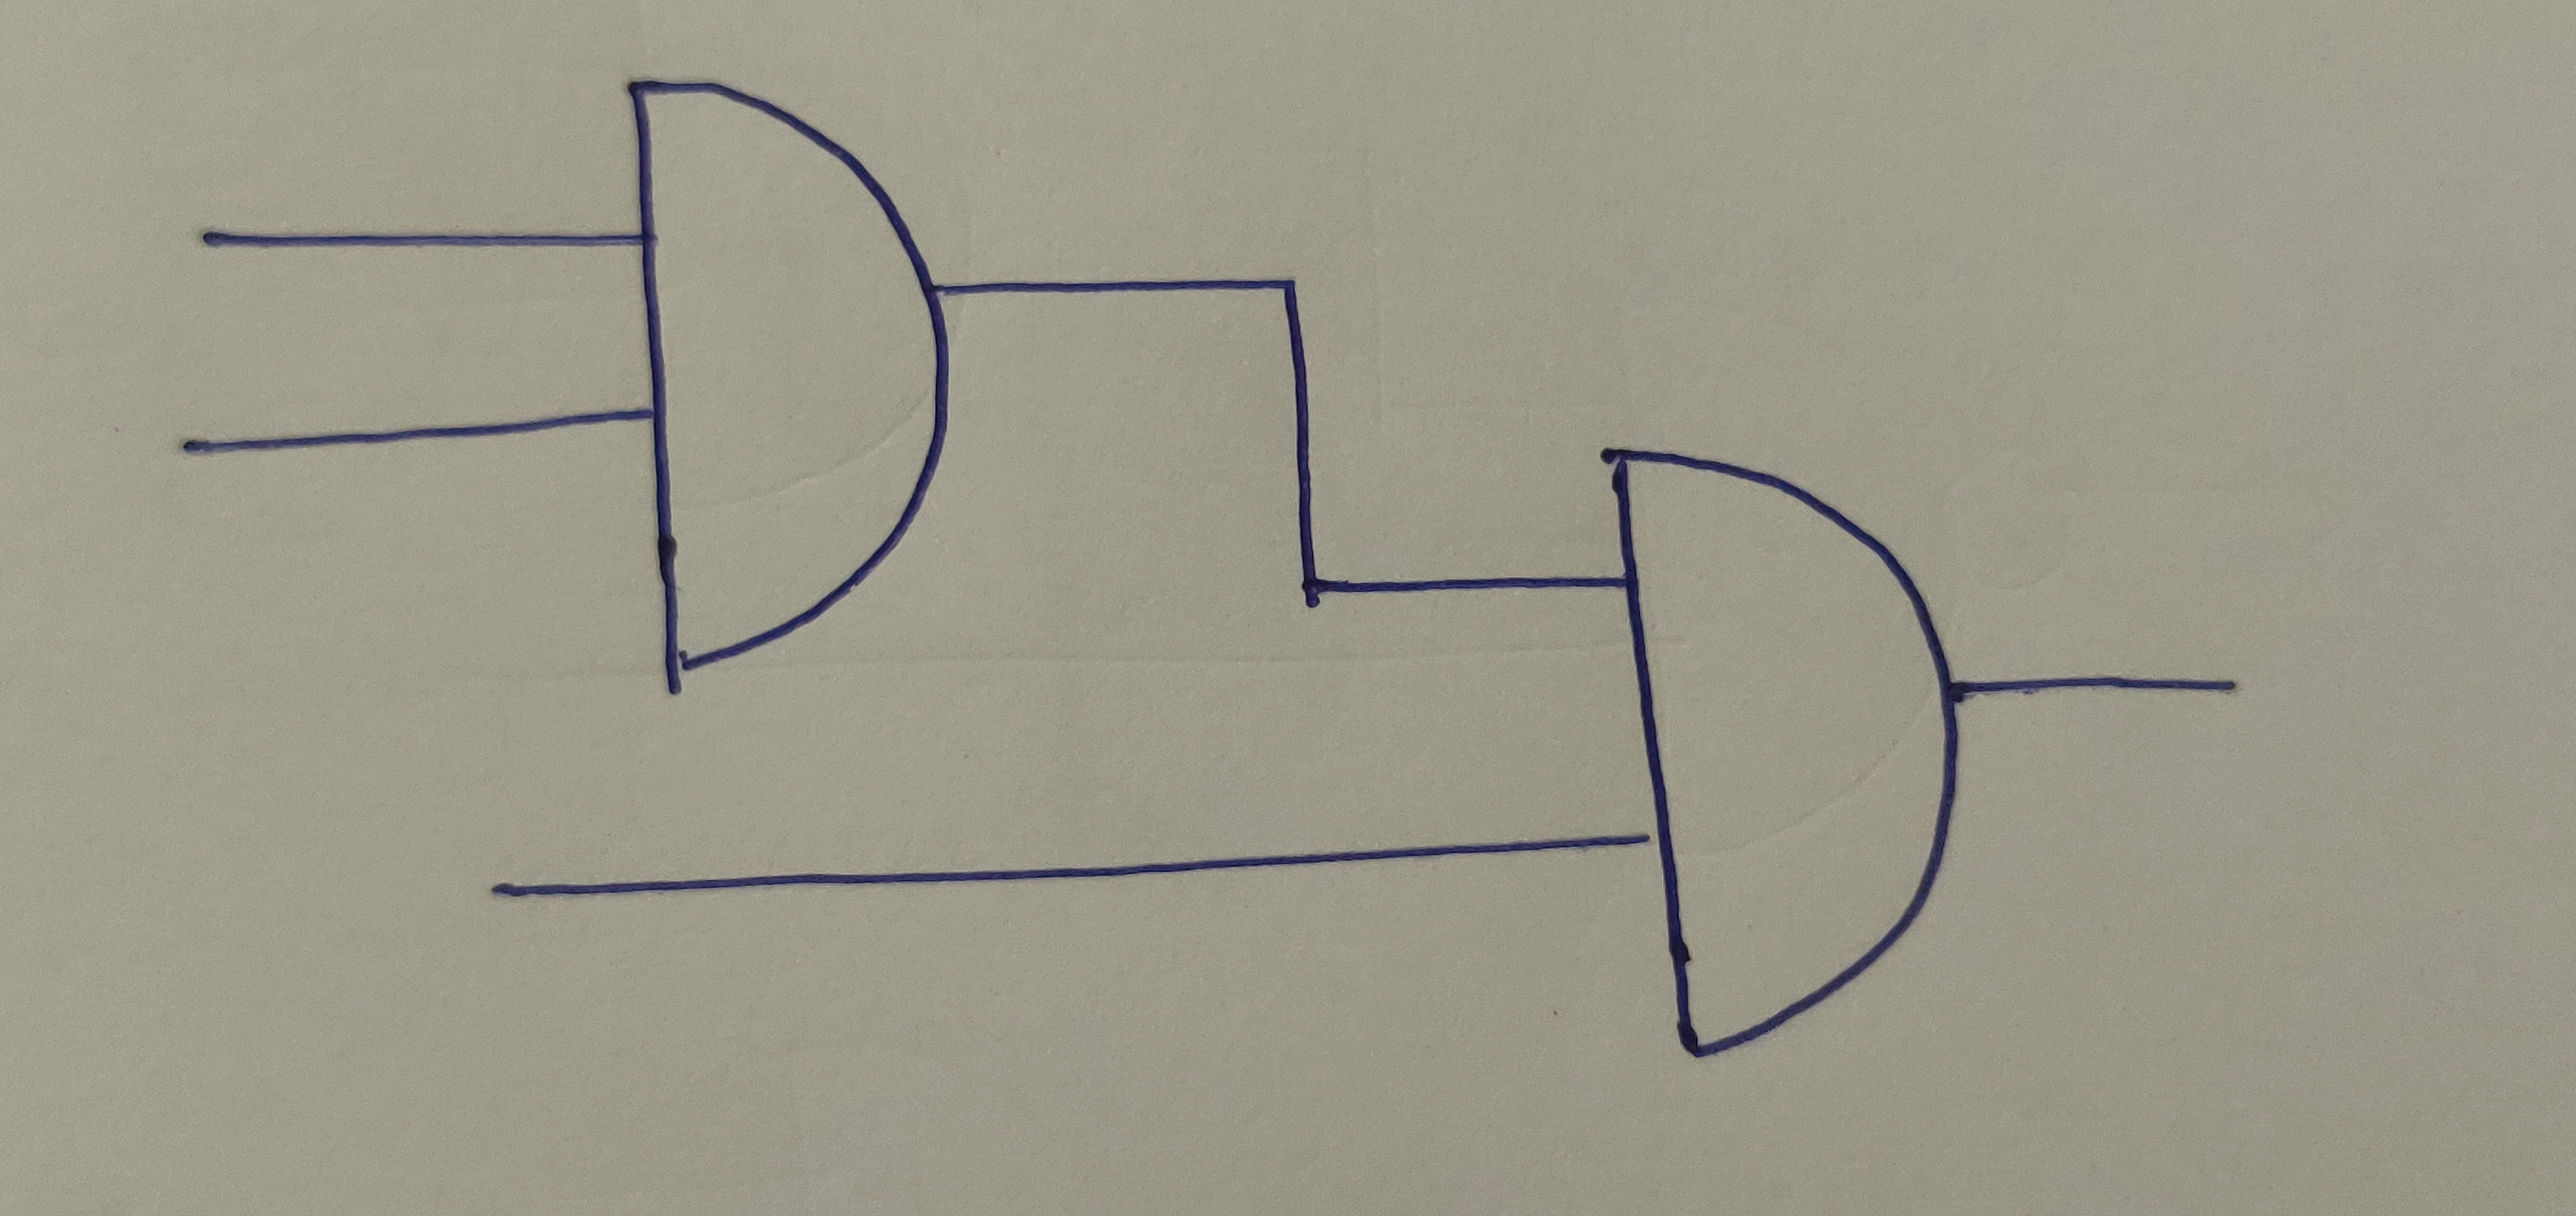and: (1603, 439, 1963, 1057), (618, 72, 948, 674)
